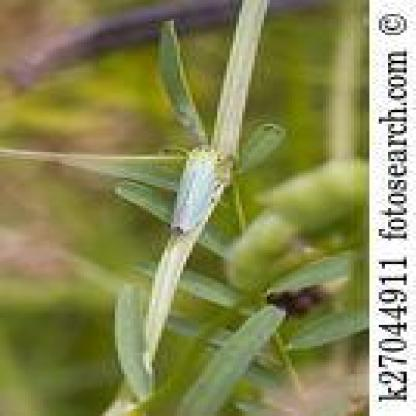Green-Leafhopper: (164, 138, 232, 245)
